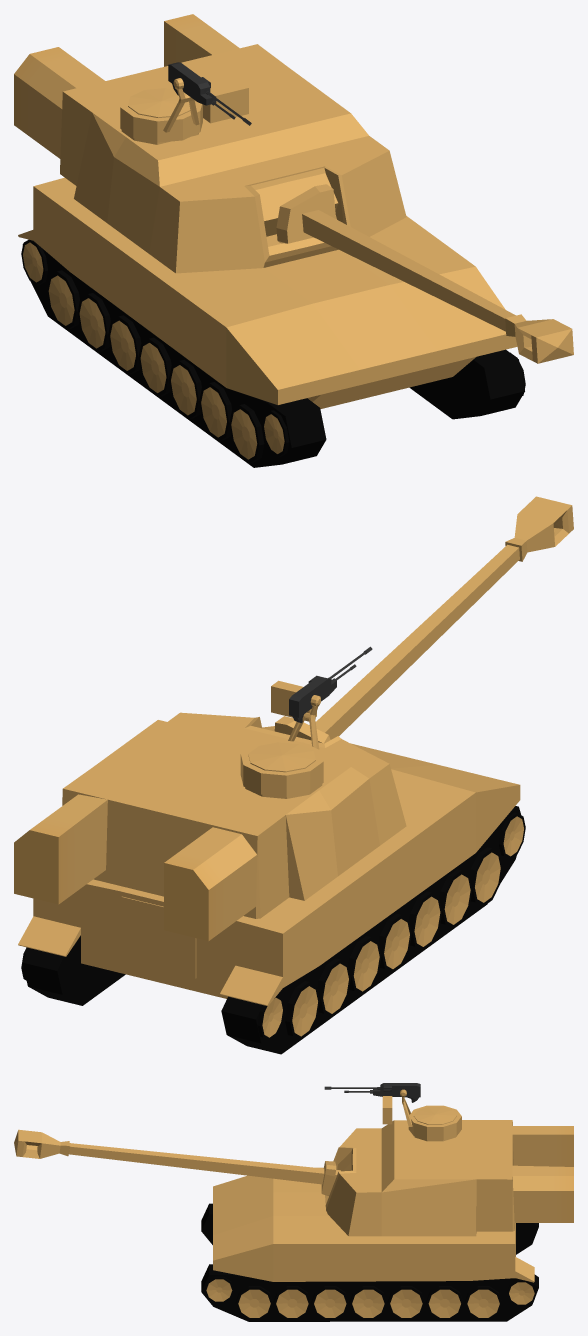
3 renders of one model, top to bottom at view 1: azimuth 30°, elevation 25°; view 2: azimuth 150°, elevation 25°; view 3: azimuth 270°, elevation 25°, orthographic. The views are drawn at different scales.
Visible parts, largest first — view 1: Plane.027, Plane.025, Cube.015, Plane.026, Cube.016, Plane.029, Cube.017; view 2: Plane.027, Plane.025, Cube.015, Plane.026, Plane.028, Cube.016, Plane.029; view 3: Plane.027, Plane.025, Cube.015, Plane.026, Cube.016, Plane.029.
Part boxes in pixels (x1,y1,x2,y2): Plane.027: (14, 14, 406, 273); Plane.025: (18, 177, 517, 409); Cube.015: (21, 239, 525, 467); Plane.026: (255, 173, 573, 363); Cube.016: (168, 62, 251, 125); Plane.029: (128, 88, 195, 117); Cube.017: (163, 74, 199, 132); Plane.027: (14, 712, 406, 941); Plane.025: (18, 726, 520, 1006); Cube.015: (21, 806, 525, 1054); Plane.026: (274, 496, 573, 743); Plane.028: (119, 896, 196, 980); Cube.016: (271, 646, 372, 723); Plane.029: (248, 742, 315, 772); Plane.027: (325, 1105, 573, 1236); Plane.025: (213, 1167, 534, 1282); Cube.015: (201, 1203, 538, 1321); Plane.026: (14, 1129, 351, 1195); Cube.016: (324, 1083, 420, 1124); Plane.029: (413, 1107, 456, 1124).
Bounding box in the file's own units: 357 × 400 × 1107.
